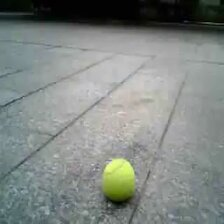tennis: (103, 158, 135, 199)
